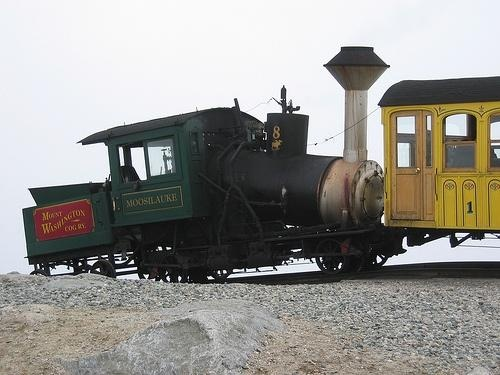train: (21, 46, 495, 280)
